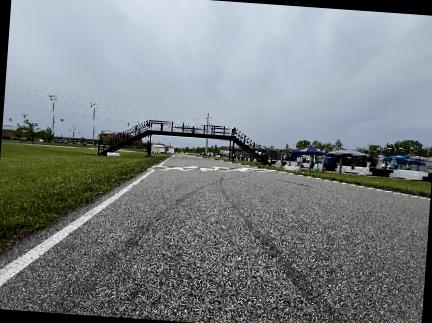Grass: (0, 143, 170, 248), (237, 160, 431, 197)
Lane: (0, 155, 429, 322)
